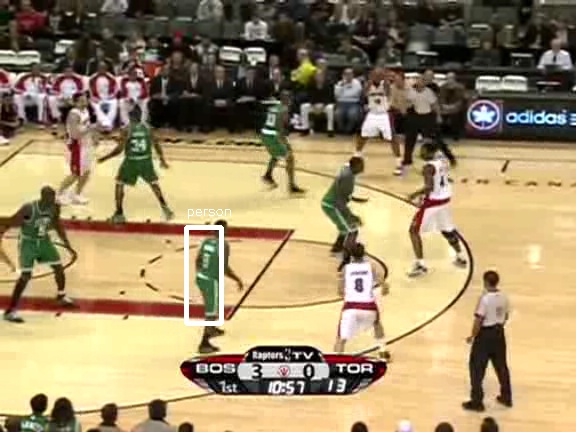person: (195, 234, 229, 315), (194, 234, 228, 315), (196, 234, 230, 315), (195, 233, 229, 314), (195, 235, 229, 316)
target_negative: (134, 194, 481, 406), (45, 40, 528, 107), (44, 114, 238, 266), (145, 383, 417, 420), (379, 180, 547, 215), (135, 417, 299, 428)
